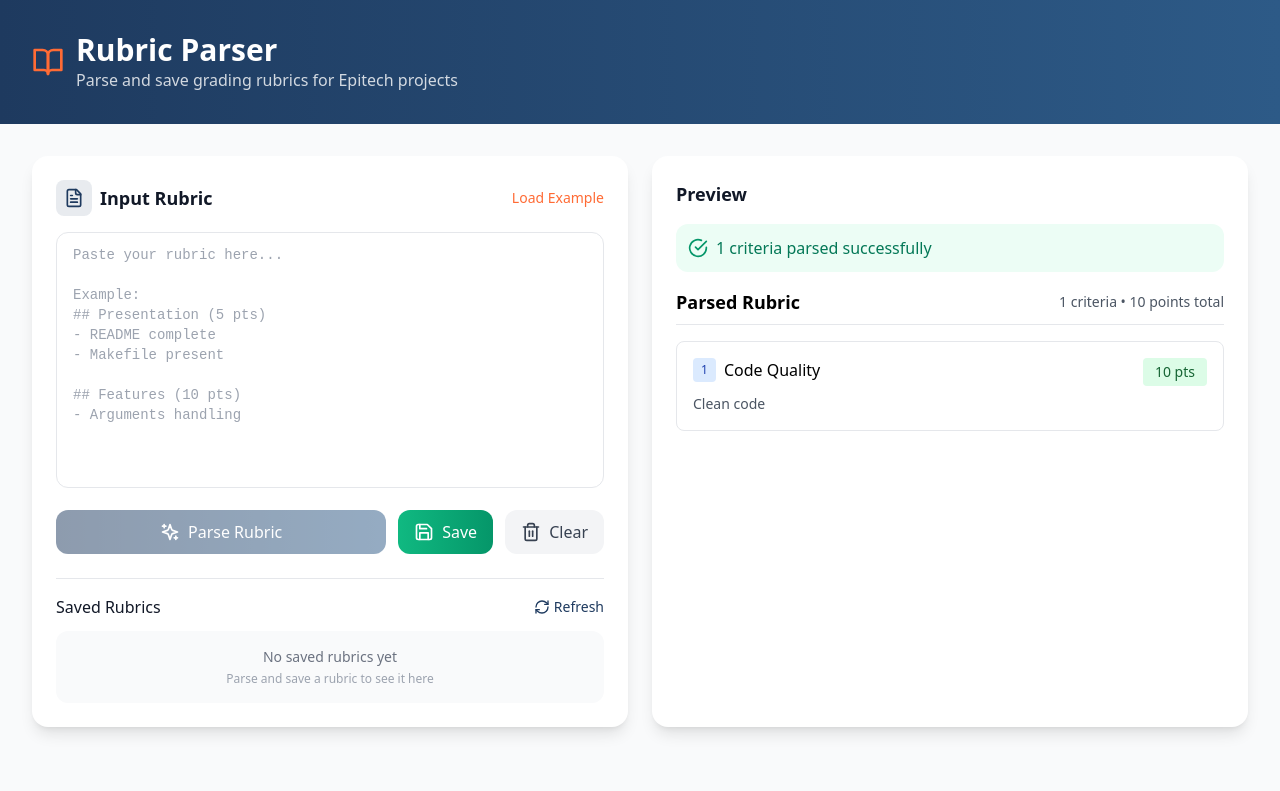
Scenario: RubricPage › shows save dialog when save button clicked
What coordinates should you click on to do the following:
click the button "Save"
I would click on:
 (446, 532)
Its box is [398, 510, 493, 554].
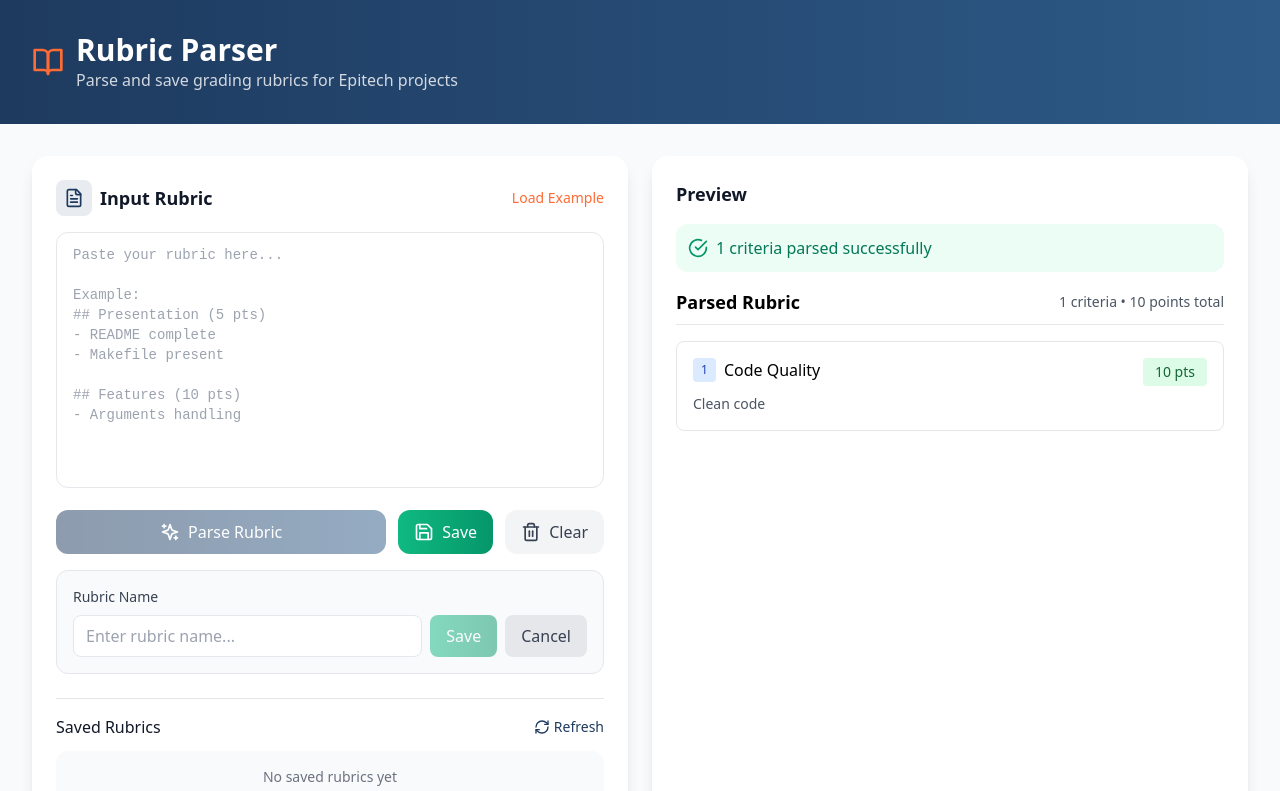
Now the text "Rubric Name" is shown, box [73, 587, 158, 606]
